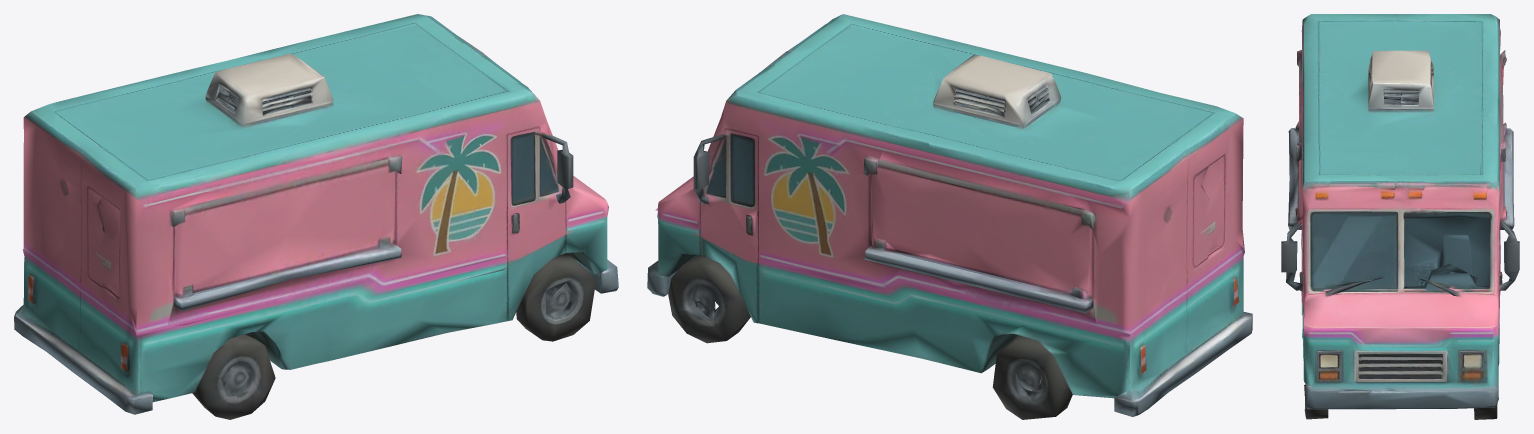
File: food_truck.glb
3 renders of one model, left to right at view 1: azimuth 30°, elevation 25°; view 2: azimuth 150°, elevation 25°; view 3: azimuth 270°, elevation 25°, orthographic. The views are drawn at different scales.
Parts seen in each view (by area): view 1: tripo_node_51bcadcf-3e71-40f7-bc5b-ecdb9fecb6c4; view 2: tripo_node_51bcadcf-3e71-40f7-bc5b-ecdb9fecb6c4; view 3: tripo_node_51bcadcf-3e71-40f7-bc5b-ecdb9fecb6c4.
Part boxes in pixels (x1=…): tripo_node_51bcadcf-3e71-40f7-bc5b-ecdb9fecb6c4: x1=14, y1=14, x2=618, y2=419; tripo_node_51bcadcf-3e71-40f7-bc5b-ecdb9fecb6c4: x1=647, y1=14, x2=1252, y2=419; tripo_node_51bcadcf-3e71-40f7-bc5b-ecdb9fecb6c4: x1=1281, y1=14, x2=1519, y2=419.
Bounding box in the file's own units: 1 × 0.5479 × 0.4766.
Materials: 1 (1 with a texture image).
